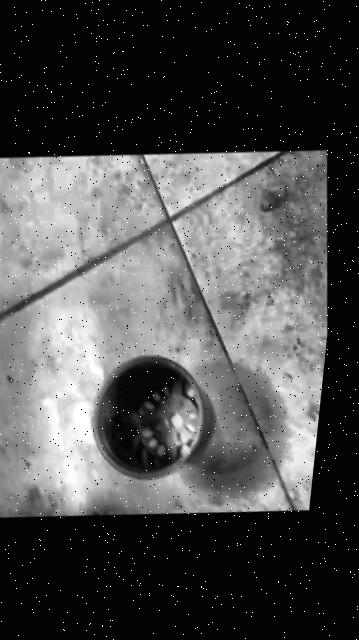pot: (79, 344, 225, 490)
